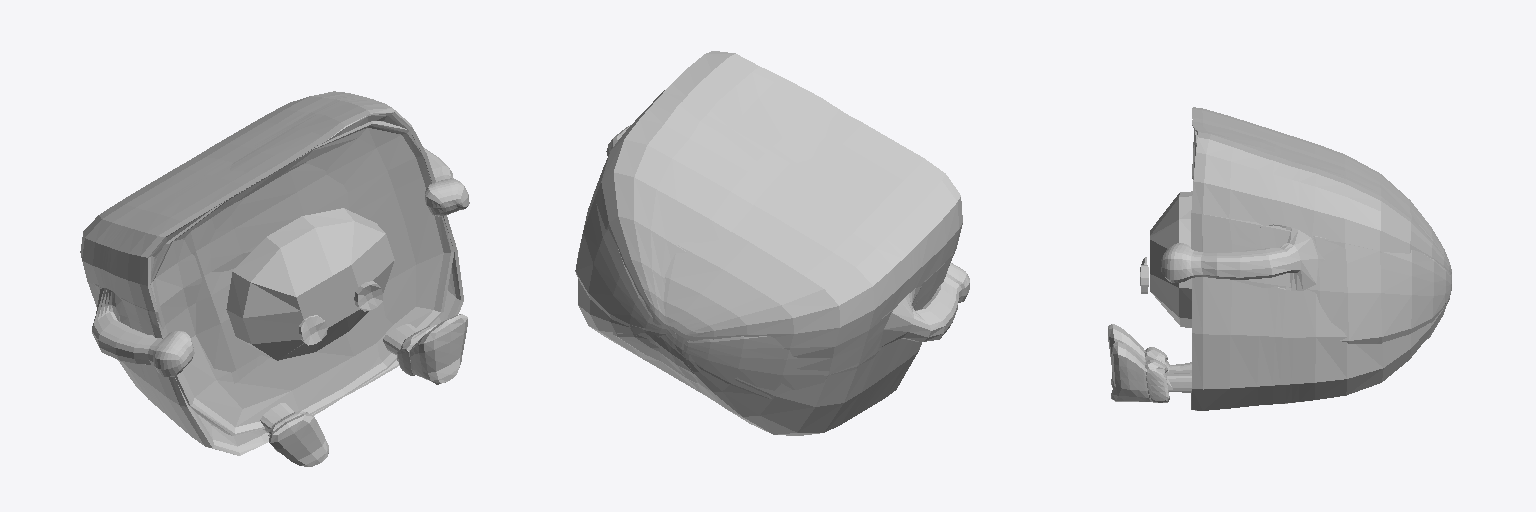
The model's file is Pal_000024.obj.
The picture shows the model from 3 angles: view 1: azimuth 30°, elevation 25°; view 2: azimuth 150°, elevation 25°; view 3: azimuth 270°, elevation 25°; orthographic projection.
Visible parts, largest first — view 1: Cuerpo_de_aguacate_3.001_Cube.002, Hueso_Cubo.003, Ojos_Cubo.002; view 2: Cuerpo_de_aguacate_3.001_Cube.002; view 3: Cuerpo_de_aguacate_3.001_Cube.002, Hueso_Cubo.003.
Boxes of the visible parts, <box> form: Cuerpo_de_aguacate_3.001_Cube.002: <box>80,91,469,466</box>; Hueso_Cubo.003: <box>226,208,394,360</box>; Ojos_Cubo.002: <box>299,281,382,345</box>; Cuerpo_de_aguacate_3.001_Cube.002: <box>575,51,969,435</box>; Cuerpo_de_aguacate_3.001_Cube.002: <box>1108,107,1451,410</box>; Hueso_Cubo.003: <box>1150,191,1192,327</box>.
Bounding box in the file's own units: 1.13 × 0.9964 × 1.01.